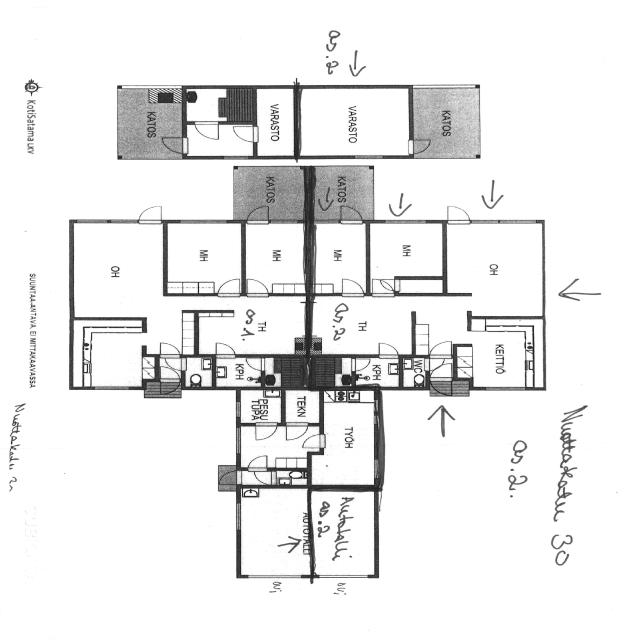door: (296, 86, 412, 157), (462, 324, 539, 388), (351, 357, 400, 388), (242, 456, 272, 482), (135, 203, 165, 225), (191, 120, 221, 142), (229, 123, 259, 144), (240, 469, 276, 486), (443, 203, 472, 224), (252, 422, 279, 442), (162, 136, 187, 156), (216, 277, 242, 296), (244, 277, 270, 296), (283, 422, 309, 441), (338, 278, 365, 296), (339, 204, 363, 224), (429, 340, 453, 358), (160, 355, 185, 372), (375, 341, 399, 358), (213, 341, 237, 358), (300, 434, 324, 451), (244, 454, 268, 471), (428, 379, 452, 396), (244, 356, 266, 372), (408, 138, 428, 155), (158, 342, 180, 357), (350, 358, 372, 372), (426, 357, 448, 371)
window: (244, 572, 303, 580), (314, 571, 368, 579), (479, 385, 527, 393), (174, 218, 228, 225), (383, 218, 429, 226), (468, 218, 502, 226), (234, 399, 242, 420)
zone: (443, 221, 546, 314), (69, 221, 165, 316), (196, 297, 306, 357), (310, 295, 414, 357), (237, 489, 309, 575), (163, 221, 243, 294), (312, 493, 376, 575), (461, 324, 541, 388), (318, 399, 377, 484), (413, 87, 480, 158), (75, 323, 146, 388), (243, 223, 306, 294), (118, 93, 184, 160), (366, 222, 444, 278), (311, 222, 368, 294), (232, 164, 306, 219), (414, 293, 467, 353), (230, 359, 277, 424), (182, 88, 252, 124), (147, 308, 196, 355), (237, 388, 283, 424), (212, 356, 262, 388), (352, 356, 401, 388), (261, 356, 307, 387), (309, 356, 355, 387), (283, 388, 321, 424), (182, 357, 213, 388), (400, 356, 427, 388), (274, 470, 309, 486), (239, 470, 274, 486)
